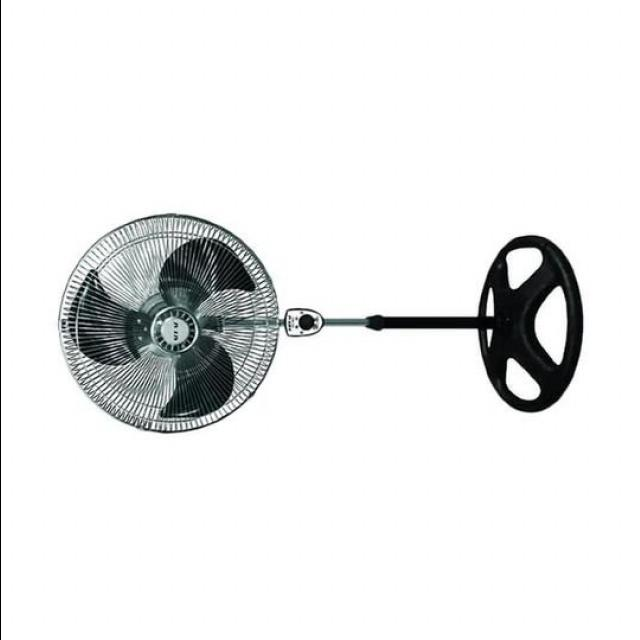fan: (51, 214, 592, 438)
